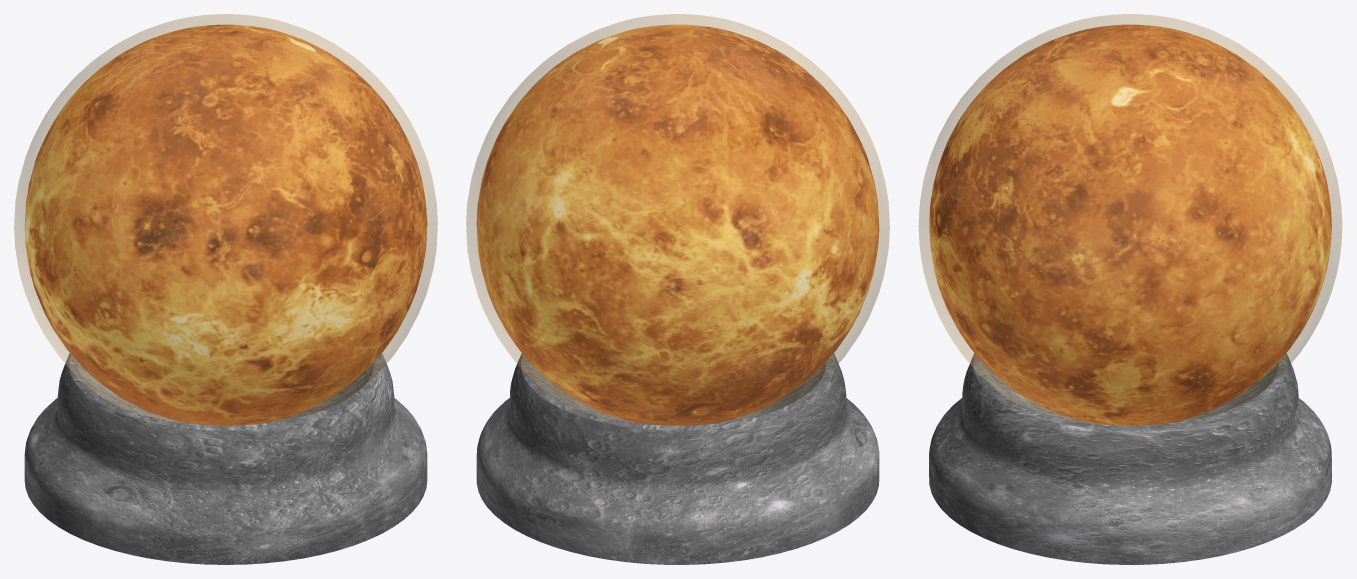
The picture shows the model from 3 angles, left to right: view 1: azimuth 30°, elevation 25°; view 2: azimuth 150°, elevation 25°; view 3: azimuth 270°, elevation 25°; orthographic projection.
Visible parts, largest first — view 1: Glass_lamp_1, Light_lamp_2, Base_lamp_0; view 2: Glass_lamp_1, Light_lamp_2, Base_lamp_0; view 3: Glass_lamp_1, Light_lamp_2, Base_lamp_0.
Boxes of the visible parts, x1,y1,x2,y2 form: Glass_lamp_1: (14,14,437,425); Light_lamp_2: (24,24,427,425); Base_lamp_0: (24,353,427,564); Glass_lamp_1: (466,14,889,425); Light_lamp_2: (476,24,879,425); Base_lamp_0: (476,353,879,564); Glass_lamp_1: (918,14,1342,424); Light_lamp_2: (929,24,1331,425); Base_lamp_0: (929,353,1331,564).
Bounding box in the file's own units: 0.2 × 0.2322 × 0.2.
Materials: 3 (3 with a texture image).
